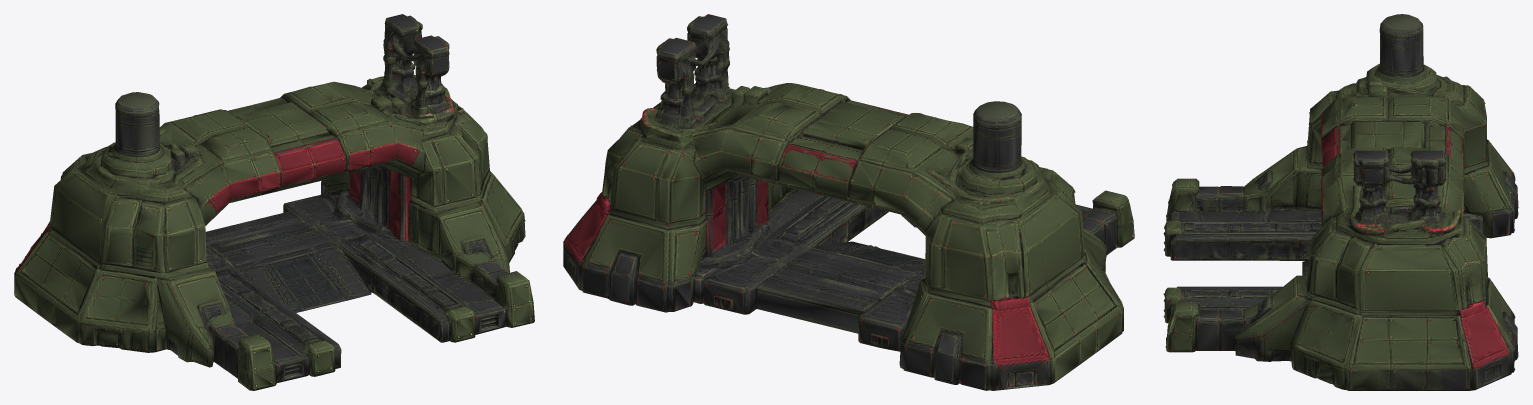
File: naval-pen.glb
3 views of the same model, side by side, from view 1: azimuth 30°, elevation 25°; view 2: azimuth 150°, elevation 25°; view 3: azimuth 270°, elevation 25° (orthographic). The views are drawn at different scales.
Parts seen in each view (by area): view 1: mesh_node; view 2: mesh_node; view 3: mesh_node.
Boxes of the visible parts, x1,y1,x2,y2 form: mesh_node: [14, 14, 534, 390]; mesh_node: [563, 14, 1134, 390]; mesh_node: [1163, 14, 1518, 390].
Size of the model in its own units: 2 by 0.8635 by 1.4.
1 material, 1 textured.
